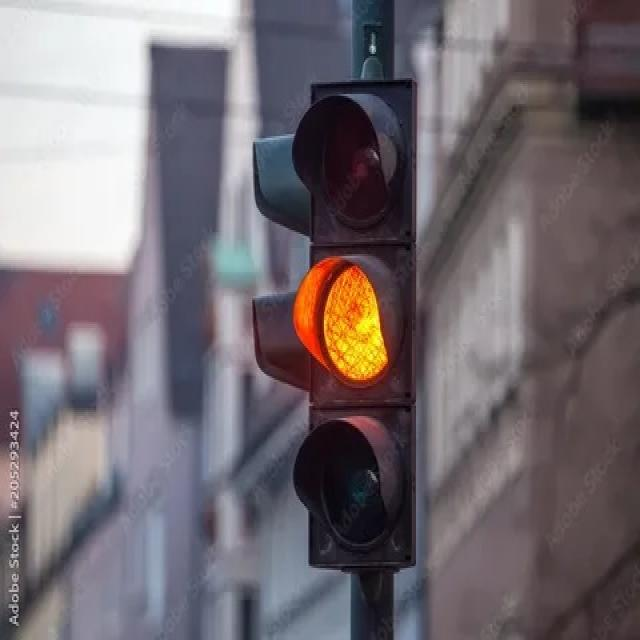sari: (293, 83, 417, 564)
